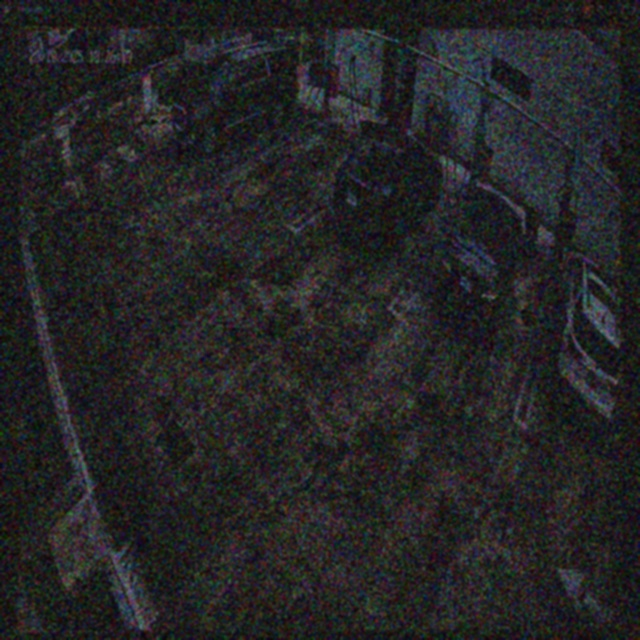Car: (335, 121, 442, 253), (439, 186, 522, 329)
